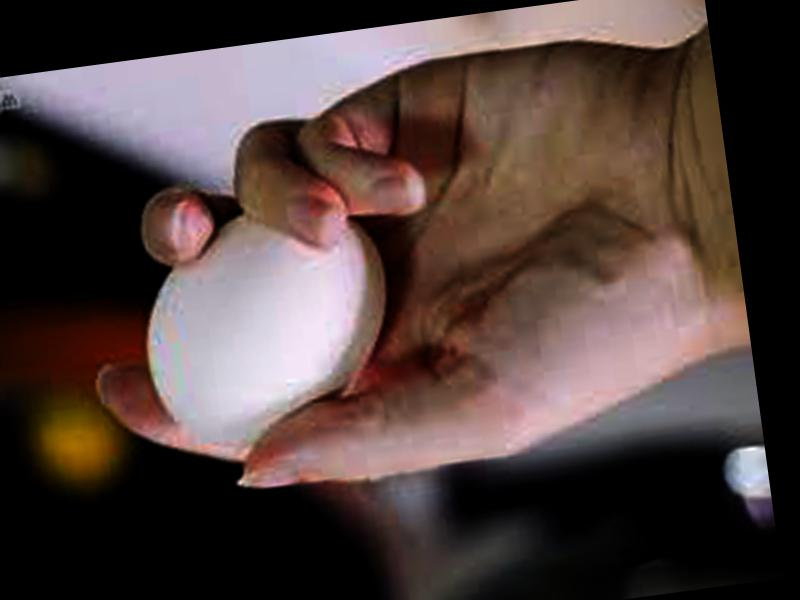Eggs: (127, 199, 402, 456)
